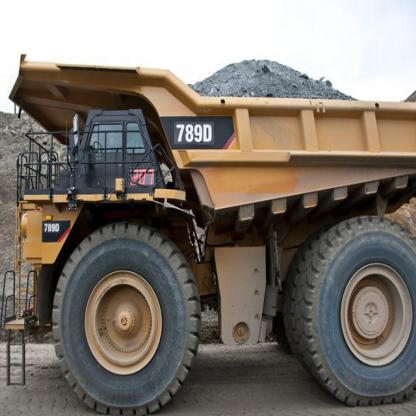dump_truck: (8, 35, 416, 415)
